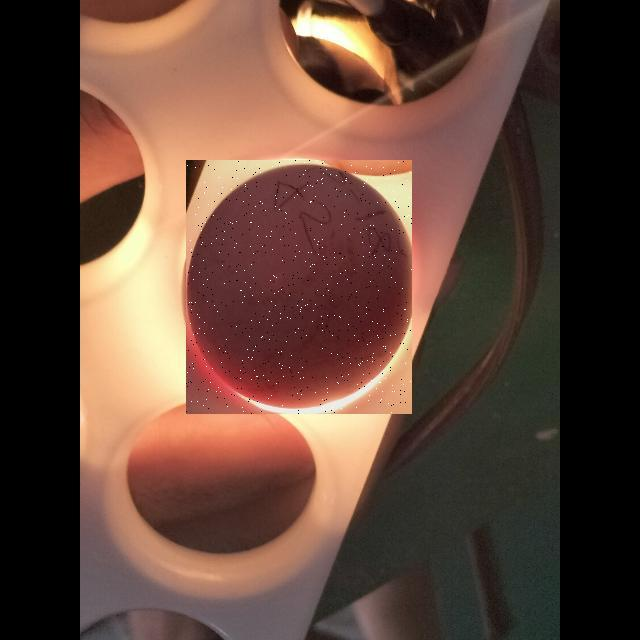Fertile: (186, 160, 412, 414)
